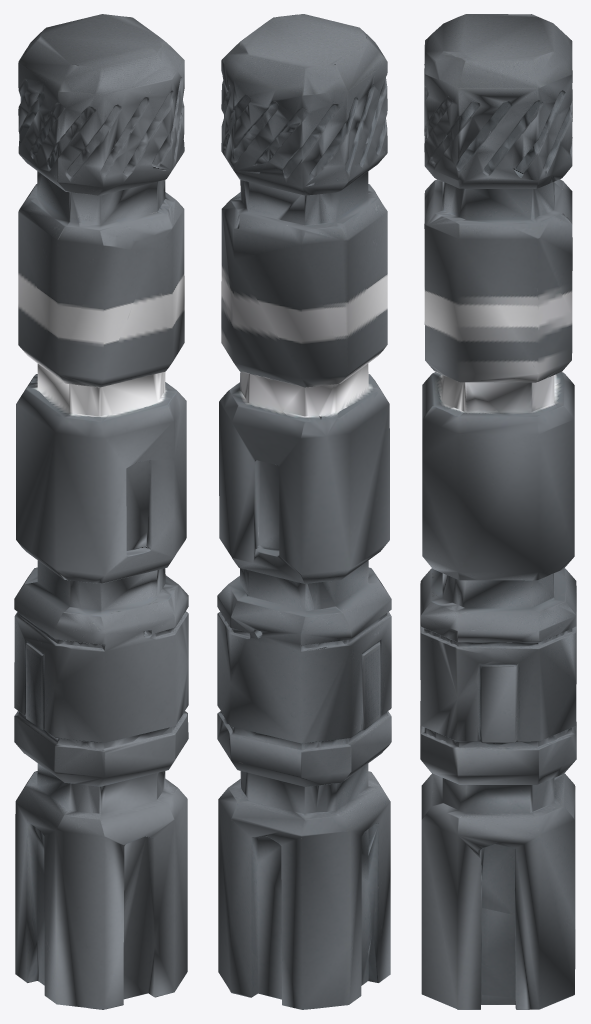
The picture shows the model from 3 angles, left to right: view 1: azimuth 30°, elevation 25°; view 2: azimuth 150°, elevation 25°; view 3: azimuth 270°, elevation 25°; orthographic projection.
Visible parts, largest first — view 1: Mesh_0; view 2: Mesh_0; view 3: Mesh_0.
Boxes of the visible parts, x1,y1,x2,y2 form: Mesh_0: [14, 14, 188, 1009]; Mesh_0: [217, 14, 391, 1009]; Mesh_0: [420, 14, 576, 1009].
Bounding box in the file's own units: 0.061 × 0.4 × 0.0603.
Materials: 1 (1 with a texture image).
